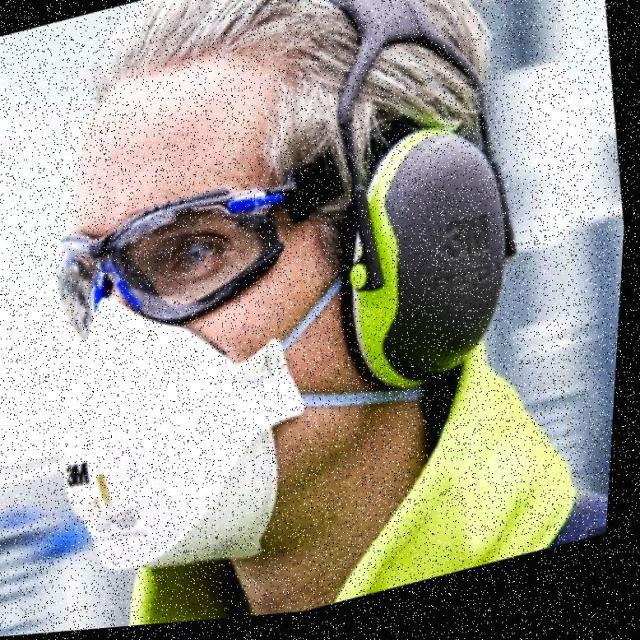Earmuffs: (351, 130, 505, 387)
Mask: (62, 296, 304, 569)
No Hardhat: (96, 0, 355, 192)
